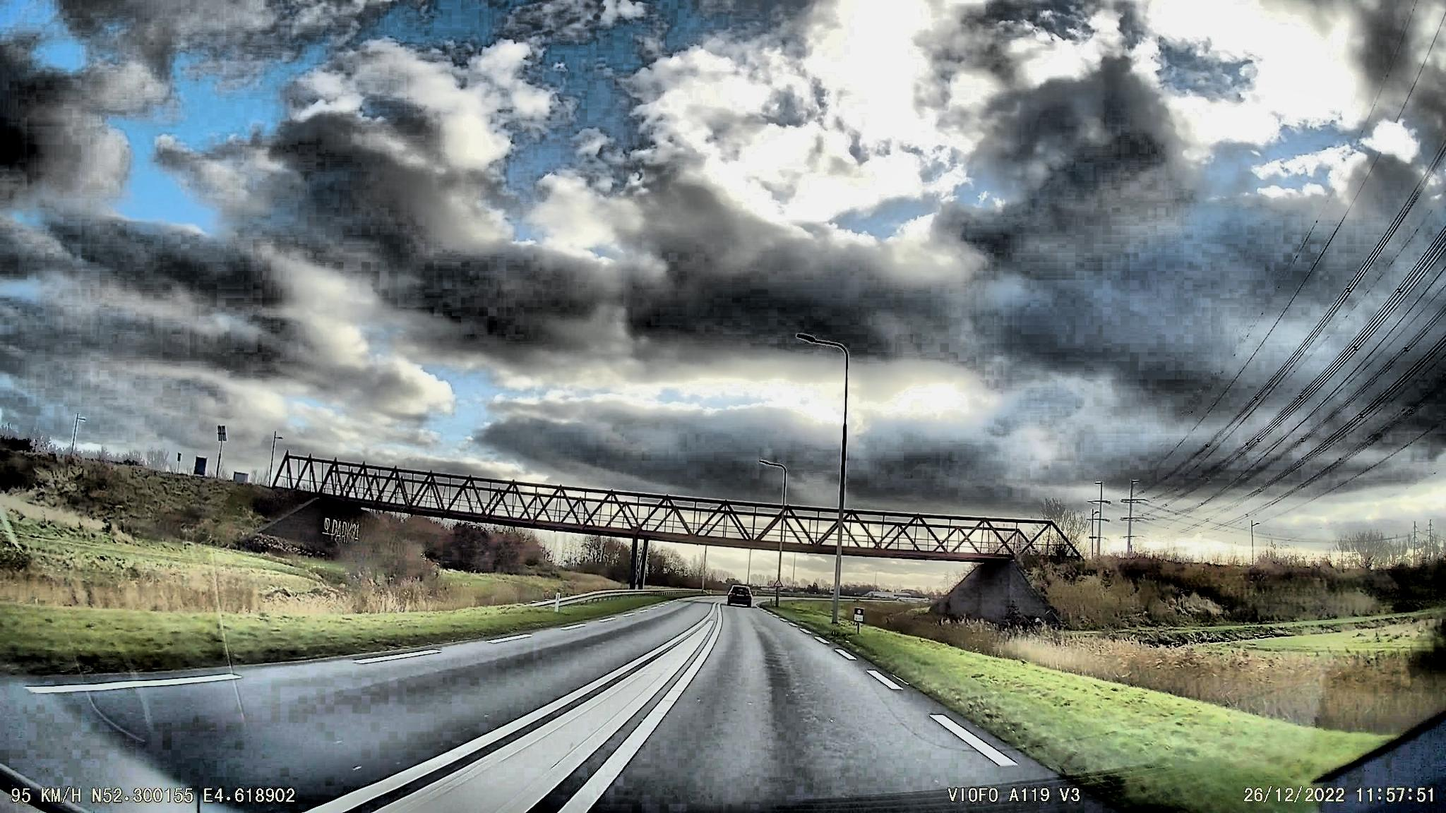Roads: (0, 601, 1118, 813)
